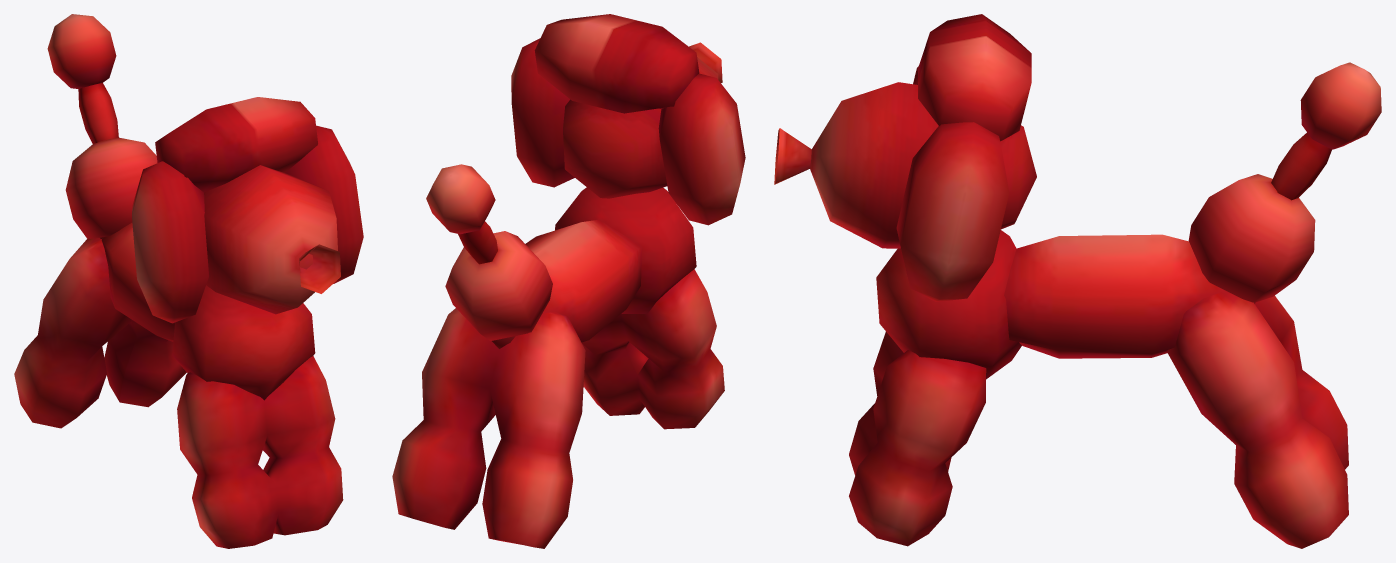
File: rmk_bal_lamp_dog.dae
3 views of the same model, side by side, from view 1: azimuth 30°, elevation 25°; view 2: azimuth 150°, elevation 25°; view 3: azimuth 270°, elevation 25° (orthographic). The views are drawn at different scales.
Visible parts, largest first — view 1: rmk_bal_lamp_dog; view 2: rmk_bal_lamp_dog; view 3: rmk_bal_lamp_dog.
Part boxes in pixels (left/top/right/bottom): rmk_bal_lamp_dog: left=14, top=14, right=363, bottom=548; rmk_bal_lamp_dog: left=392, top=14, right=745, bottom=548; rmk_bal_lamp_dog: left=774, top=14, right=1381, bottom=548.
Size of the model in its own units: 10.63 by 18.72 by 21.34.
1 material, 1 textured.
